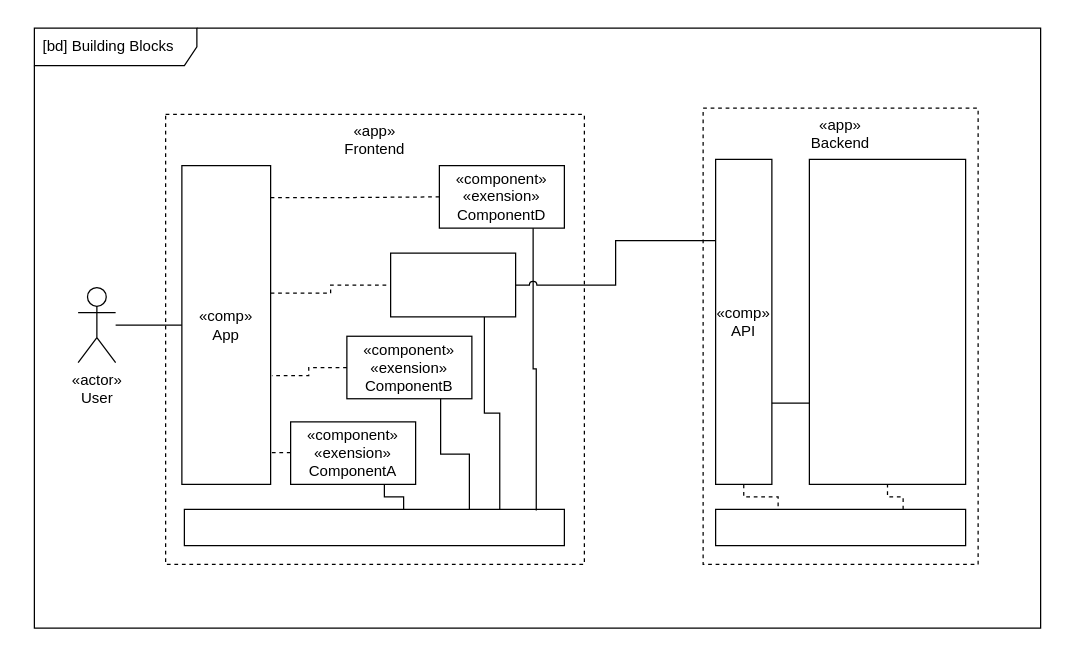
The diagram is 1068 pixels wide and 655 high, and some of its shapes have lost their labels. The shapes that lost their labels are listed below. From the top down, each one's centre as x and y in pixels, then its label:
the point at 452,284: «component» «exension» ComponentC
the point at 887,321: «component» Models
the point at 373,527: «component» Store
the point at 840,527: «component» App
